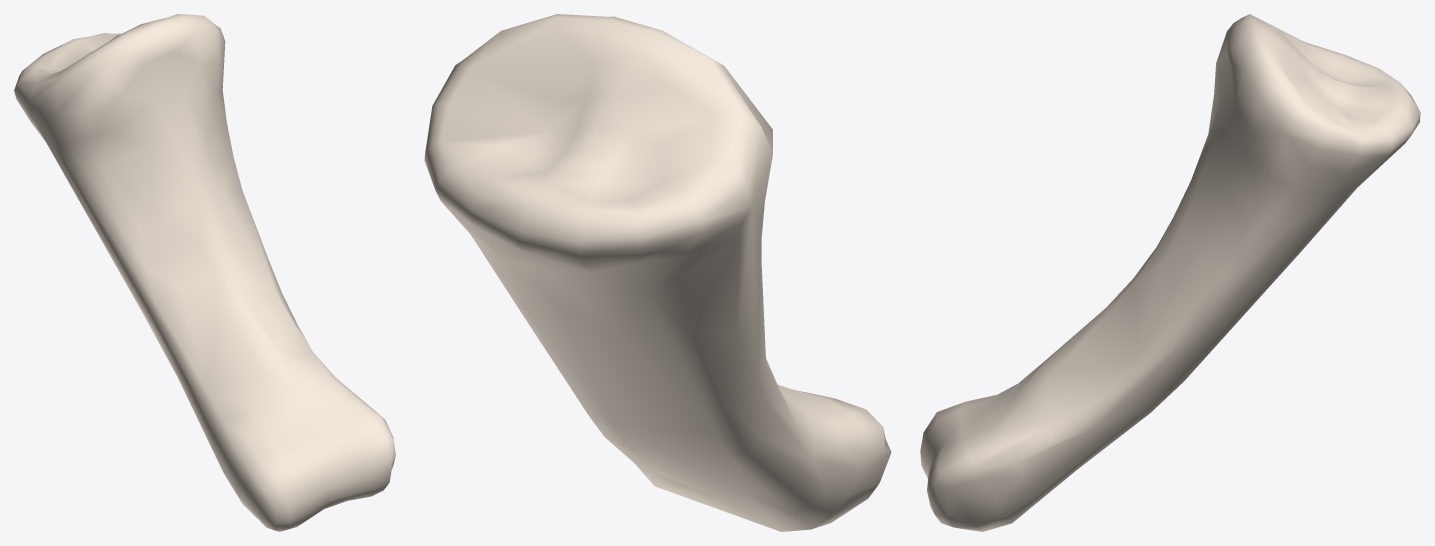
File: left_digit_3_middle.glb
3 views of the same model, side by side, from view 1: azimuth 30°, elevation 25°; view 2: azimuth 150°, elevation 25°; view 3: azimuth 270°, elevation 25° (orthographic). The views are drawn at different scales.
Visible parts, largest first — view 1: Middle phalanx of 3rd finger.r; view 2: Middle phalanx of 3rd finger.r; view 3: Middle phalanx of 3rd finger.r.
Part boxes in pixels (x1,y1,x2,y2): Middle phalanx of 3rd finger.r: [14, 14, 395, 531]; Middle phalanx of 3rd finger.r: [424, 14, 891, 531]; Middle phalanx of 3rd finger.r: [920, 14, 1420, 531].
Bounding box in the file's own units: 0.0103 × 0.0191 × 0.0186.
